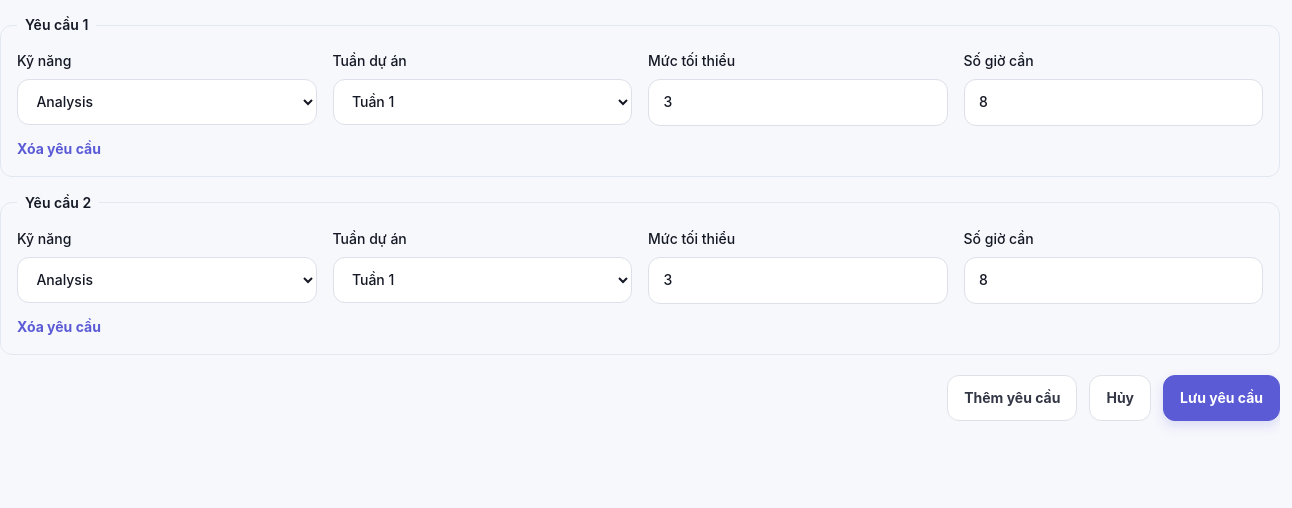
RequirementsEditor › shows inline validation and blocks saving duplicate skill/week rows
This screenshot has width=1292, height=508.
Click the button "Lưu yêu cầu" at (1222, 398), box [1163,375,1280,421]
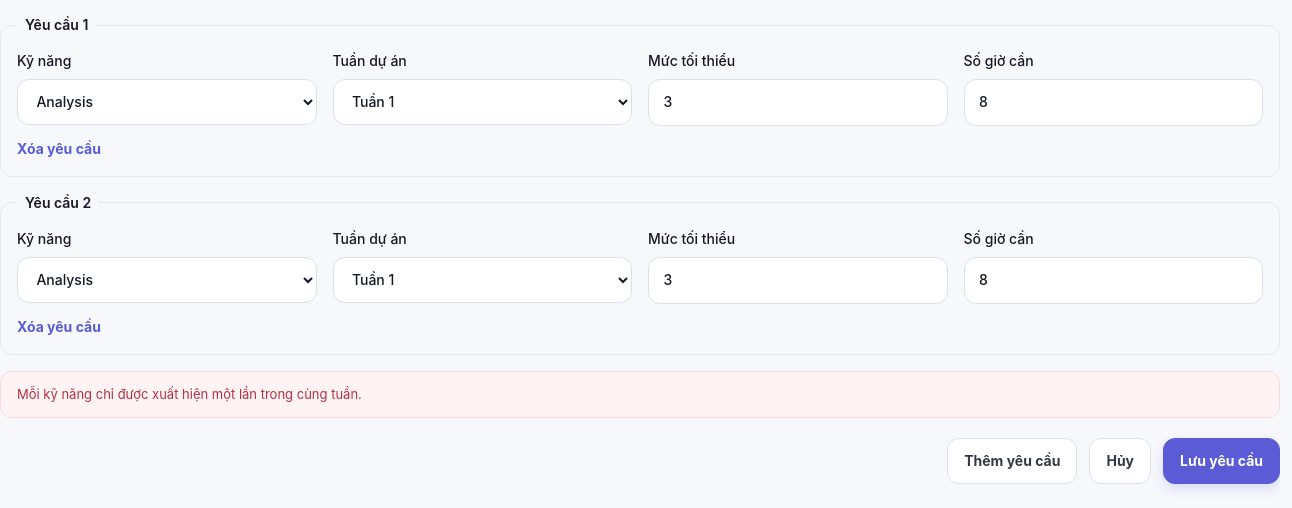
Check: the message reads "Mỗi kỹ năng chỉ được xuất hiện một lần trong cùng tuần.", box [17,386,362,402]
